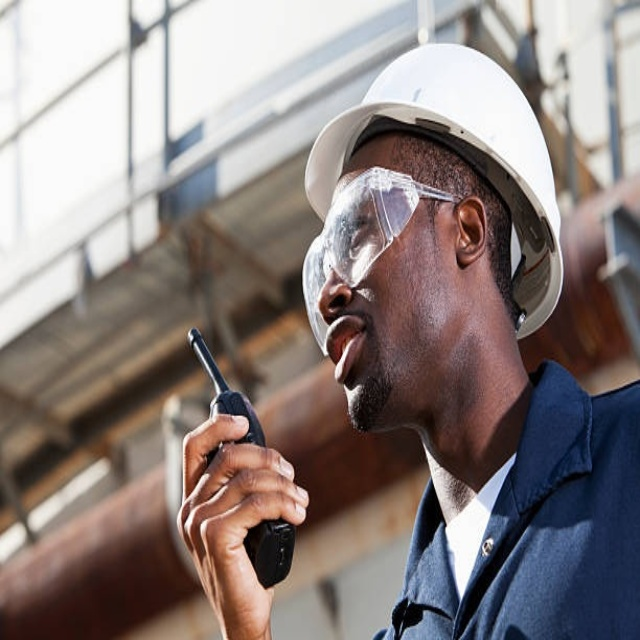Gafas: (302, 162, 459, 359)
Sin_guantes: (176, 404, 306, 640)
Sin_mascara: (320, 311, 393, 406)
